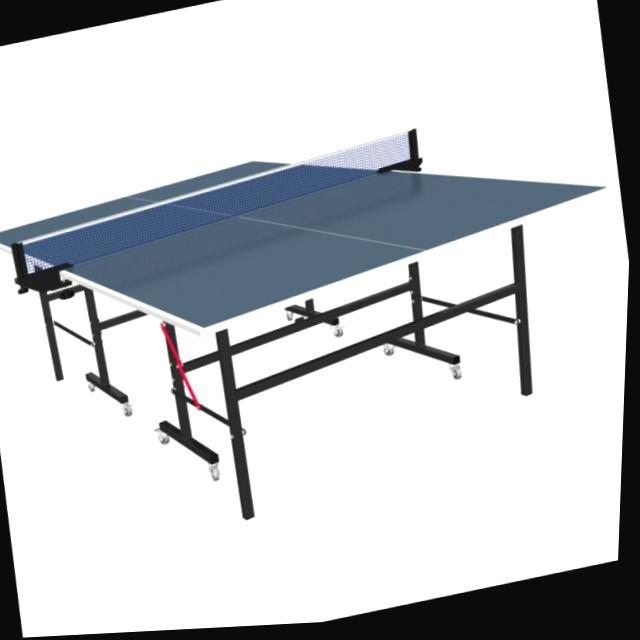TT Net: (9, 126, 425, 286)
TT Table: (0, 160, 607, 328)
